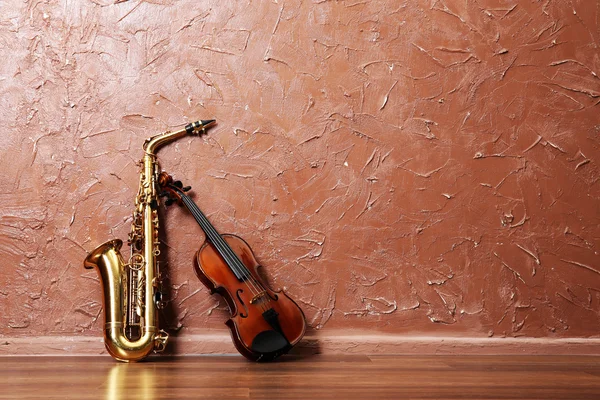Saxophone: (54, 98, 223, 367)
Violin: (148, 154, 334, 380)
